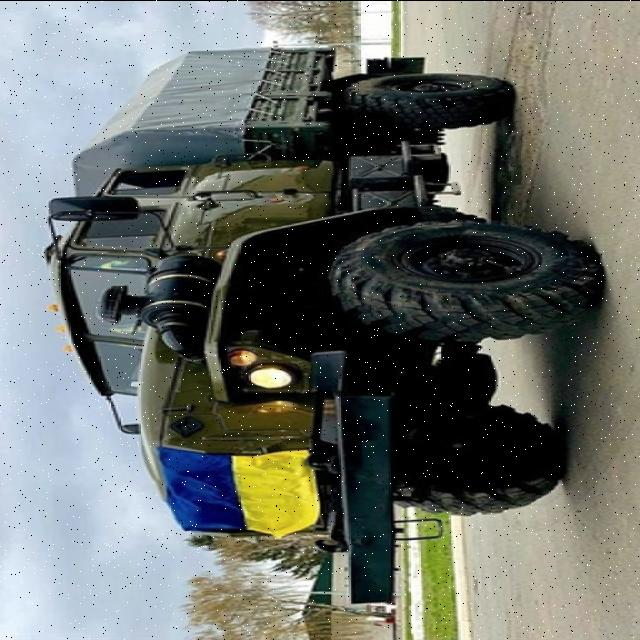TRUCK: (29, 39, 618, 604)
